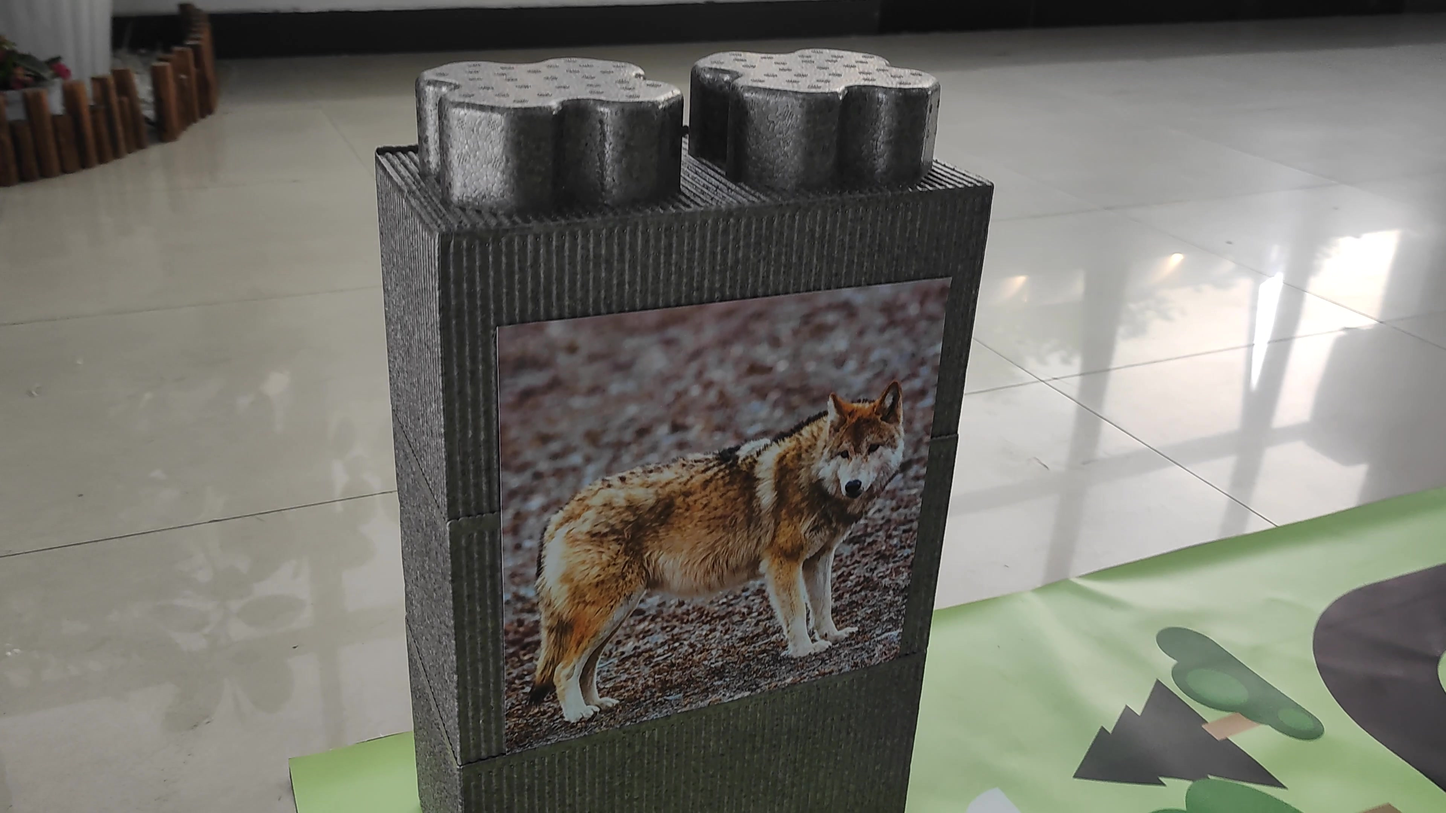wolf: (526, 364, 926, 716)
